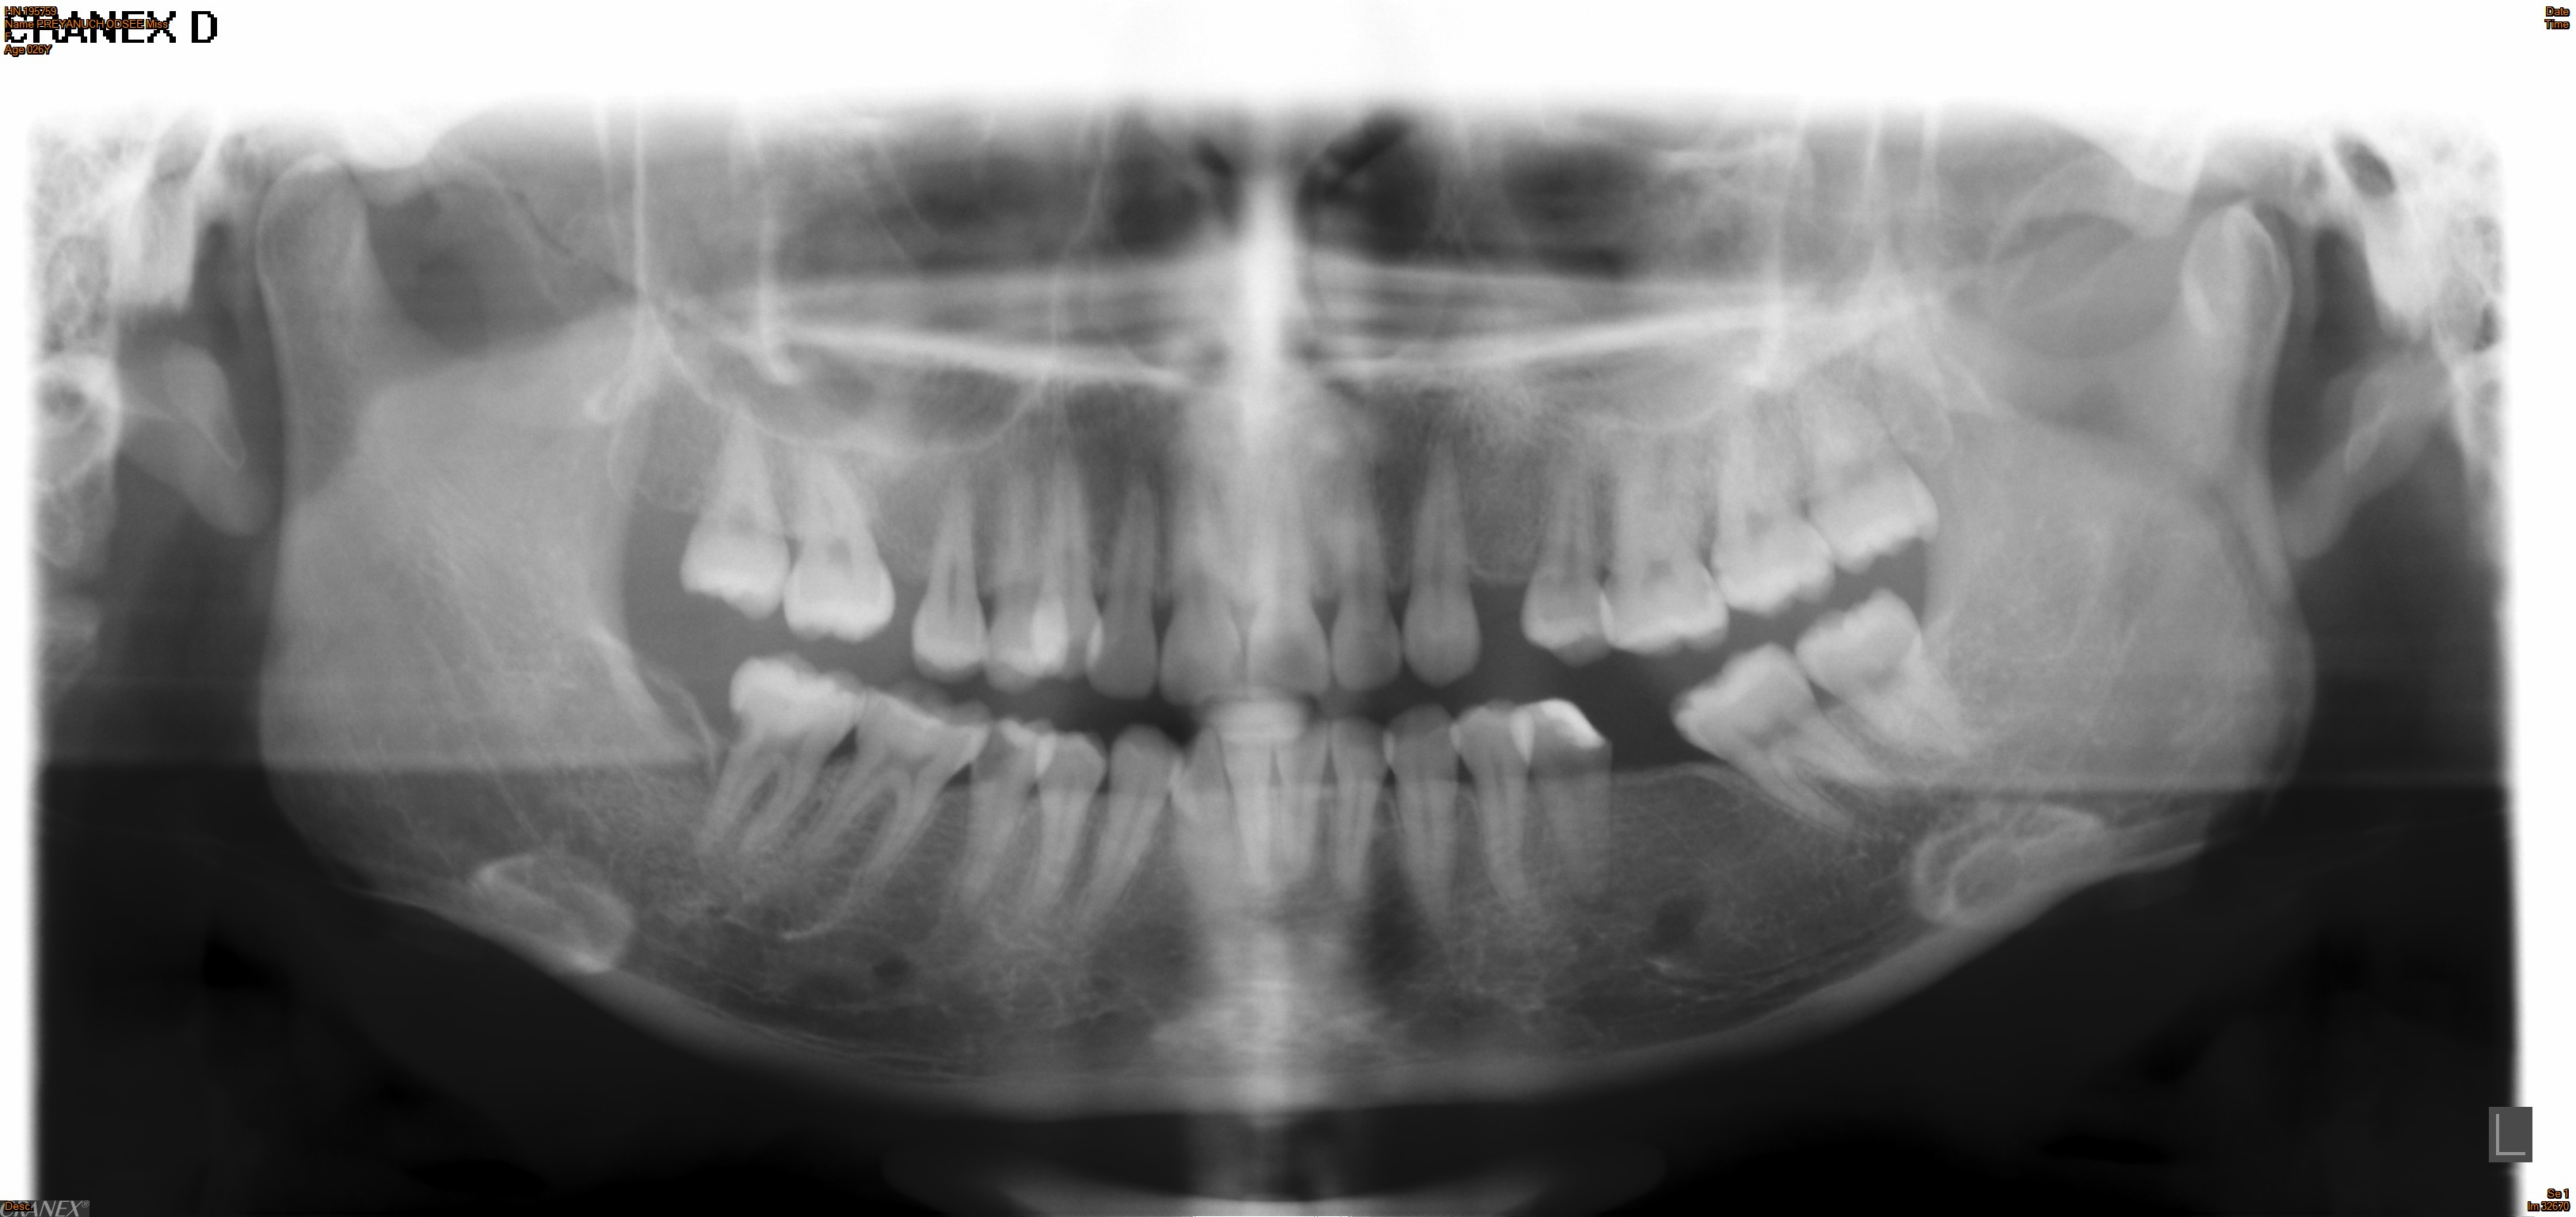periodontitis: (1661, 637, 1897, 856), (680, 650, 876, 885)
